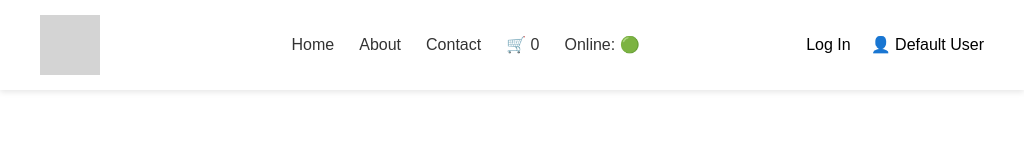
should change login to logout on click
The image size is (1024, 160).
Click the button "Log In".
click(828, 45)  # box [806,33,851,57]
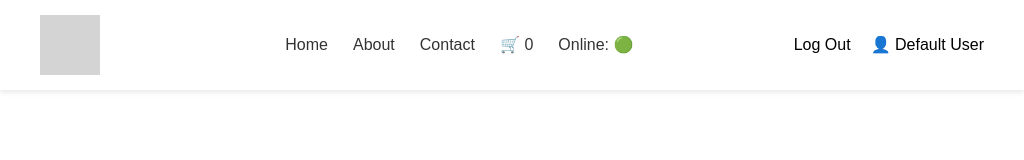
Result: the button "Log Out" is shown at [794,33,851,57]
